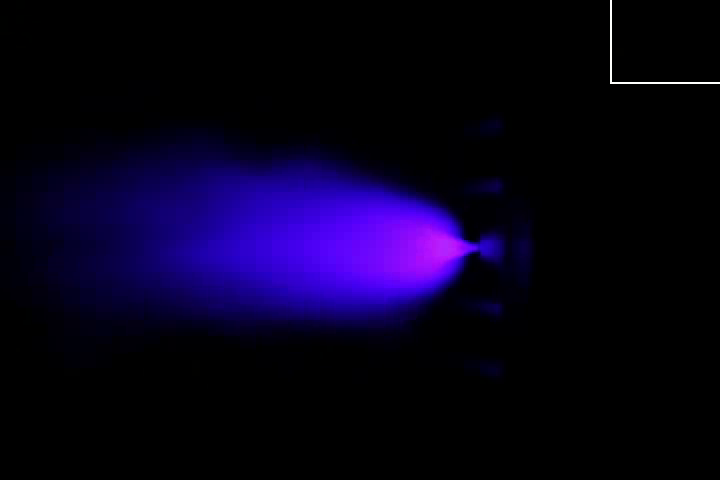burner cap: (478, 232, 504, 266)
stable: (379, 215, 478, 284)
